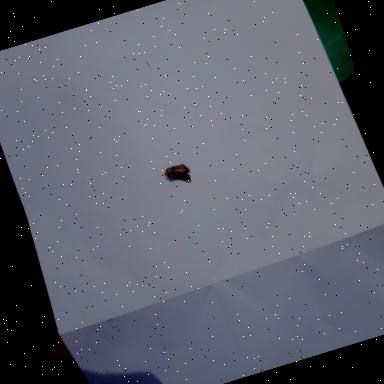pbw: (162, 161, 194, 188)
